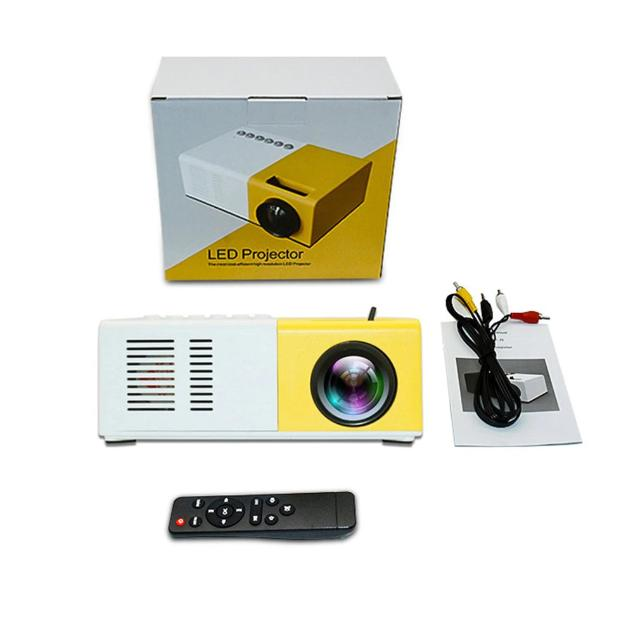Projector: (75, 294, 435, 474)
